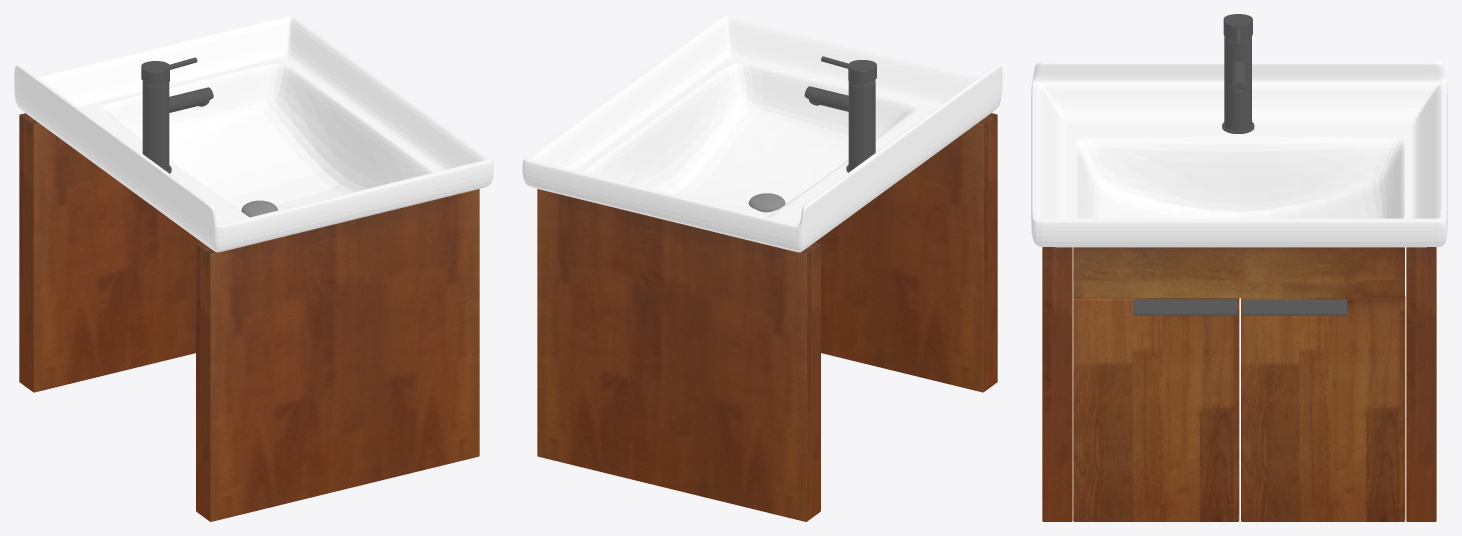
The model's file is mueble.glb.
3 views of the same model, side by side, from view 1: azimuth 30°, elevation 25°; view 2: azimuth 150°, elevation 25°; view 3: azimuth 270°, elevation 25° (orthographic). The views are drawn at different scales.
Visible parts, largest first — view 1: ChamferBox005_Malla.001, Box002_Malla.001, Cylinder001_Malla.001, Cylinder004.001_Malla.001, Cylinder004_Malla.001; view 2: ChamferBox005_Malla.001, Box002_Malla.001, Cylinder001_Malla.001, Cylinder004.001_Malla.001, Cylinder004_Malla.001, Cylinder002_Malla.001; view 3: ChamferBox005_Malla.001, Box002_Malla.001, Cylinder002_Malla.001, Cylinder001_Malla.001, Cylinder004_Malla.001.
Boxes of the visible parts, bbox=[...] form: ChamferBox005_Malla.001: bbox=[19, 113, 479, 521]; Box002_Malla.001: bbox=[14, 14, 493, 252]; Cylinder001_Malla.001: bbox=[142, 81, 171, 173]; Cylinder004.001_Malla.001: bbox=[169, 87, 213, 112]; Cylinder004_Malla.001: bbox=[141, 61, 169, 85]; ChamferBox005_Malla.001: bbox=[537, 113, 997, 521]; Box002_Malla.001: bbox=[522, 14, 1002, 252]; Cylinder001_Malla.001: bbox=[846, 80, 875, 172]; Cylinder004.001_Malla.001: bbox=[804, 86, 848, 111]; Cylinder004_Malla.001: bbox=[848, 60, 876, 84]; Cylinder002_Malla.001: bbox=[748, 193, 785, 212]; ChamferBox005_Malla.001: bbox=[1042, 247, 1436, 521]; Box002_Malla.001: bbox=[1031, 61, 1447, 247]; Cylinder002_Malla.001: bbox=[1133, 299, 1346, 315]; Cylinder001_Malla.001: bbox=[1222, 36, 1254, 133]; Cylinder004_Malla.001: bbox=[1223, 14, 1252, 40].
Bounding box in the file's own units: 0.5299 × 0.6379 × 0.6223.
Materials: 6 (3 with a texture image).
